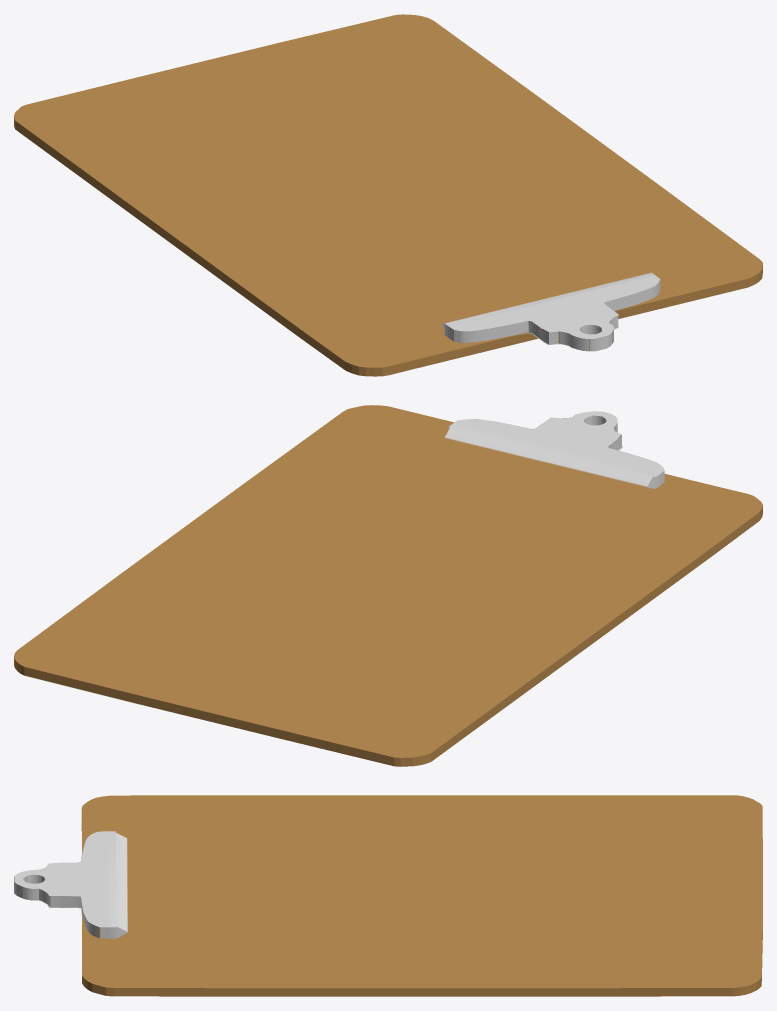
Rendered from Clipboard.fbx.
3 renders of one model, top to bottom at view 1: azimuth 30°, elevation 25°; view 2: azimuth 150°, elevation 25°; view 3: azimuth 270°, elevation 25°, orthographic. The views are drawn at different scales.
Parts seen in each view (by area): view 1: Plane.002, Plane.003; view 2: Plane.002, Plane.003; view 3: Plane.002, Plane.003.
Part boxes in pixels (bbox=[...]): Plane.002: bbox=[14, 14, 762, 376]; Plane.003: bbox=[441, 272, 660, 351]; Plane.002: bbox=[14, 405, 762, 766]; Plane.003: bbox=[444, 411, 664, 488]; Plane.002: bbox=[81, 795, 762, 996]; Plane.003: bbox=[14, 831, 128, 938].
Bounding box in the file's own units: 499 × 28.61 × 819.
